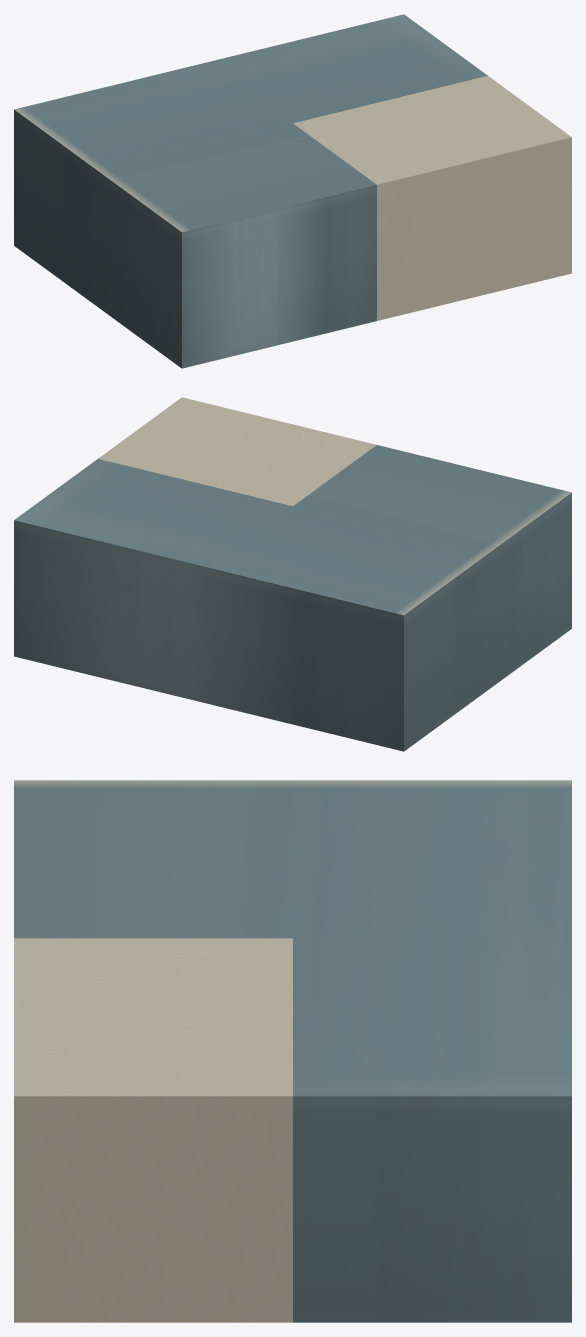
Rendered from set_pillar_01_13_base.fbx.
3 views of the same model, one above another, from view 1: azimuth 30°, elevation 25°; view 2: azimuth 150°, elevation 25°; view 3: azimuth 270°, elevation 25° (orthographic). The views are drawn at different scales.
Parts seen in each view (by area): view 1: set_pillar_01_13_base; view 2: set_pillar_01_13_base; view 3: set_pillar_01_13_base.
Part boxes in pixels (x1,y1,x2,y2): set_pillar_01_13_base: (14, 14, 571, 368); set_pillar_01_13_base: (14, 397, 571, 751); set_pillar_01_13_base: (14, 780, 571, 1322).
Bounding box in the file's own units: 59 × 19.7 × 44.
